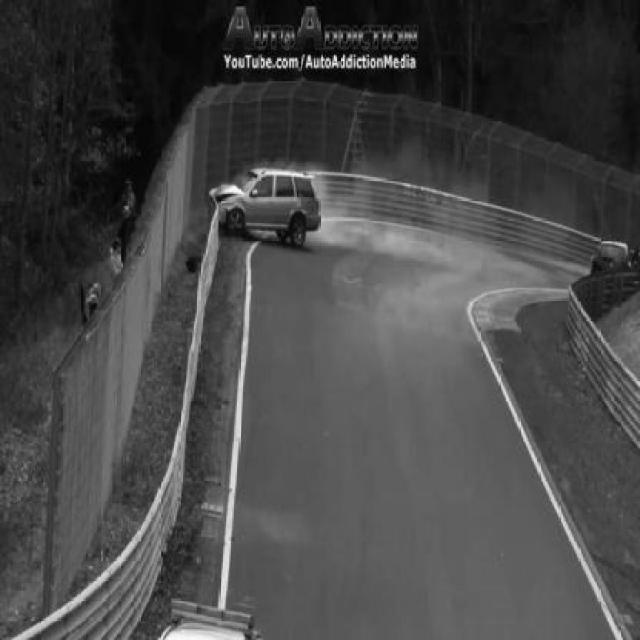accident: (196, 152, 324, 256)
